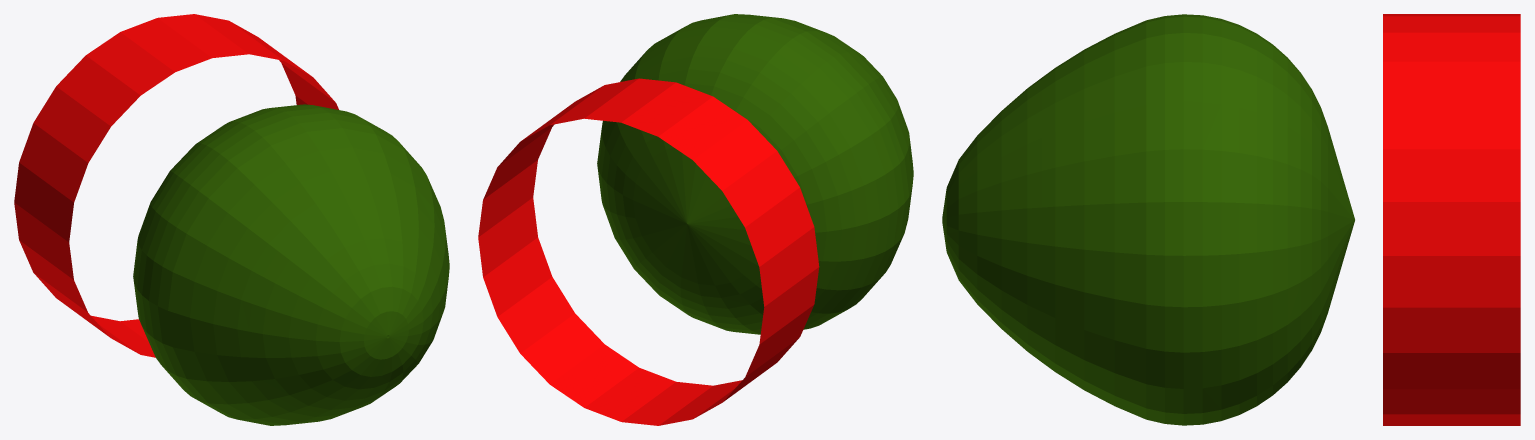
File: HPEo150cm.obj
3 renders of one model, left to right at view 1: azimuth 30°, elevation 25°; view 2: azimuth 150°, elevation 25°; view 3: azimuth 270°, elevation 25°, orthographic. The views are drawn at different scales.
Size of the model in its own units: 1.5 by 1.5 by 2.1.
